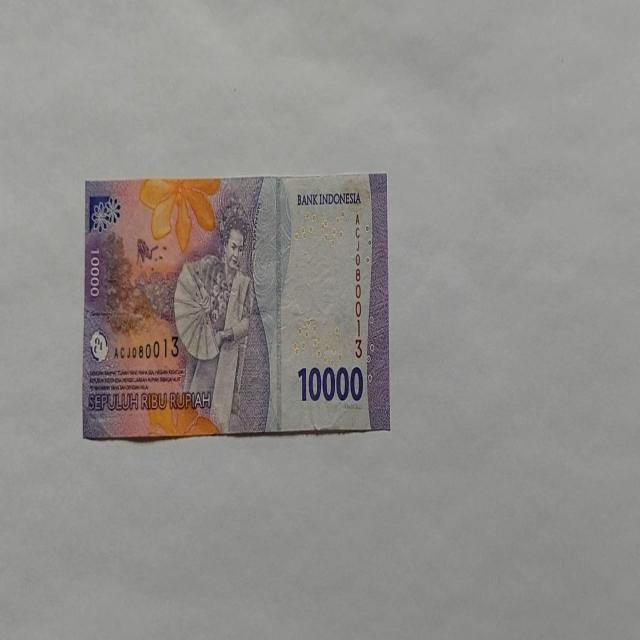Kertas: (82, 172, 390, 441), (296, 362, 364, 403)
